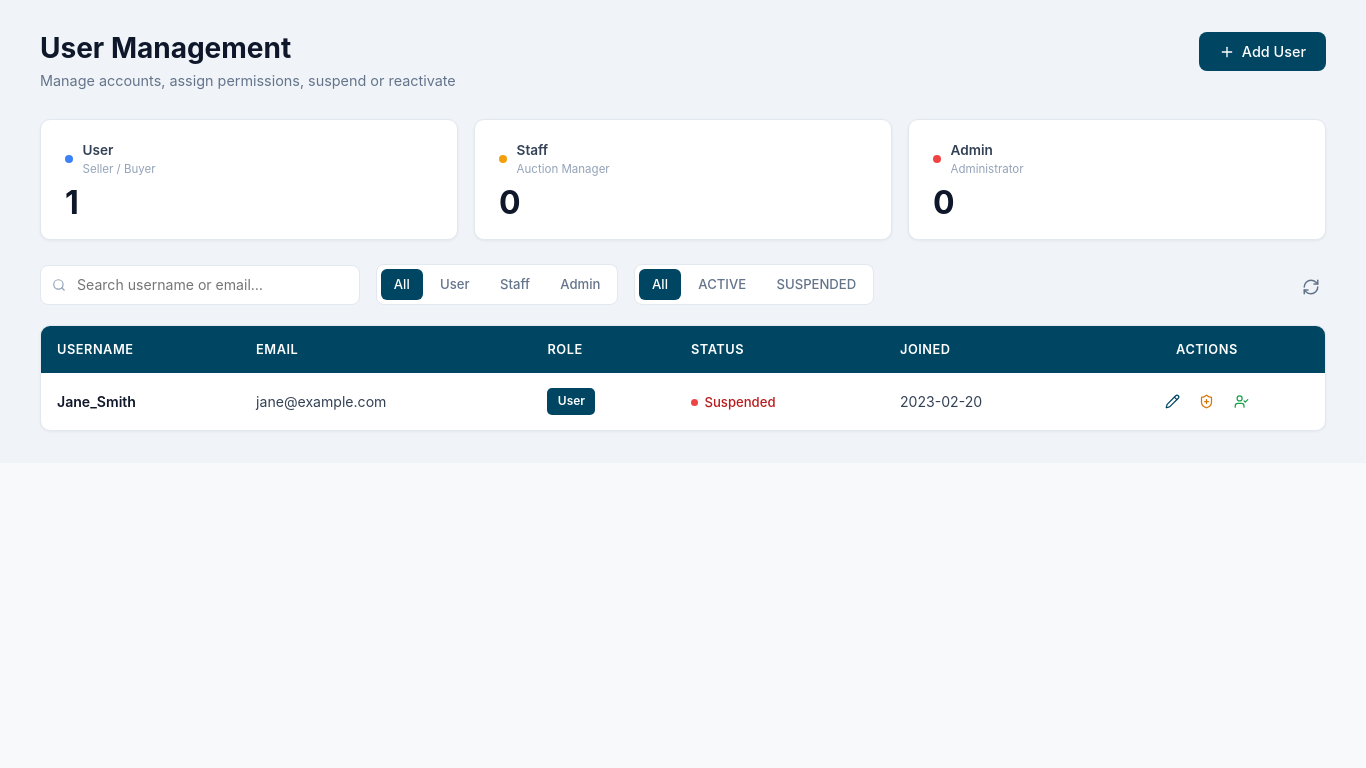
Test: UserManagement Component › opens Assign Role modal on shield button click
expect the text "Jane_Smith" is shown: met, box [57, 393, 136, 410]
Step 1. Click the button titled "Assign role" → (1207, 401), box [1192, 386, 1222, 416]
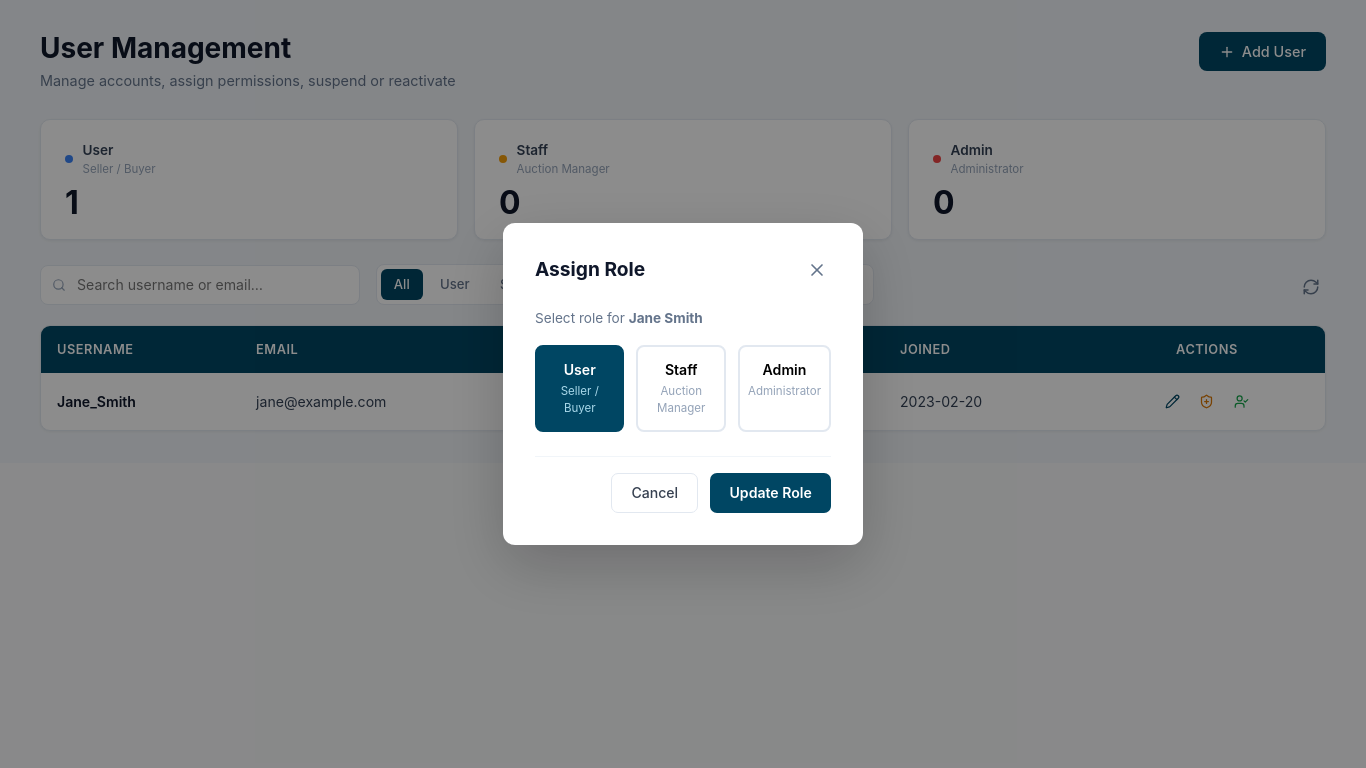
expect the heading "Assign Role" is shown: met, box [535, 258, 645, 281]
